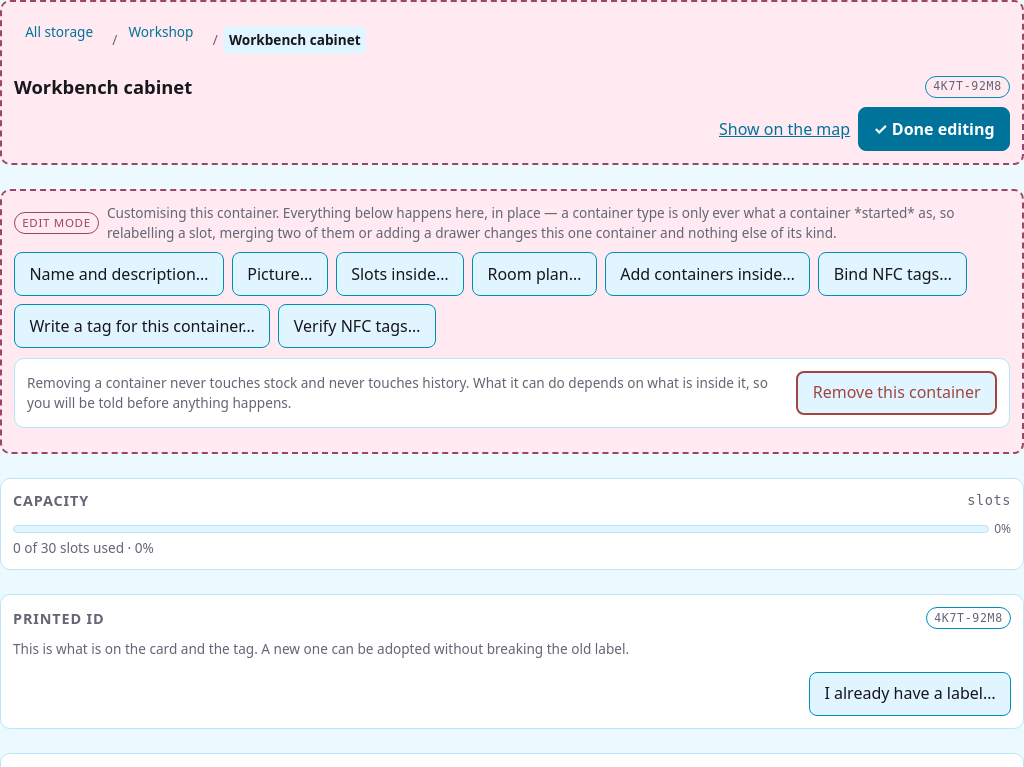
Scenario: adding containers from a container's own screen › keeps it separate from editing this container's own slots
Click the button "Slots inside…": (400, 274) [336,252,464,296]
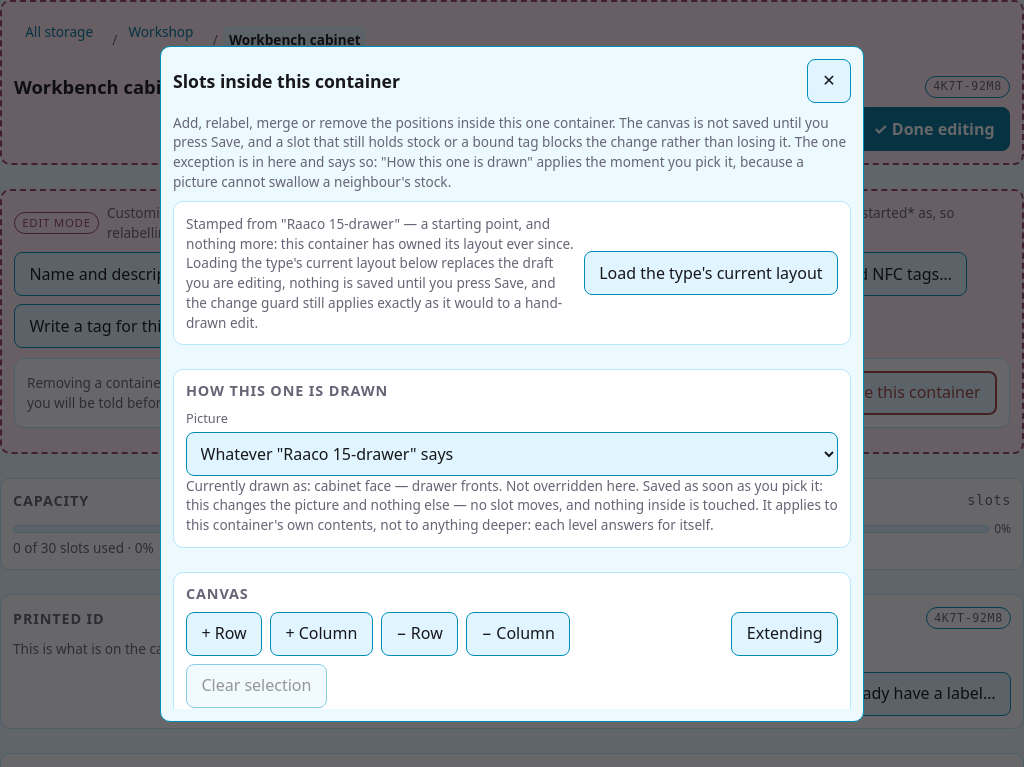
Expected: the heading "Slots inside this container" is shown, [173,68,400,92]
Expected: the text "blocks the change rather than losing it" is shown, [173,113,846,191]
